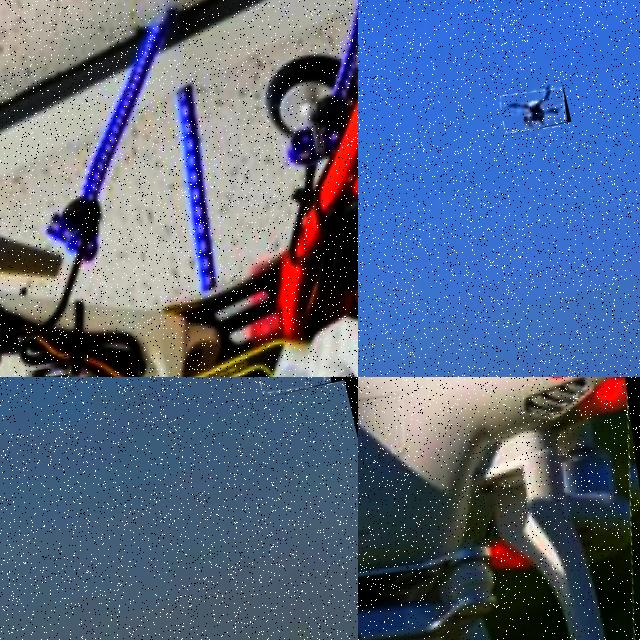drone: (0, 0, 358, 377), (358, 377, 640, 640), (498, 83, 571, 136)
